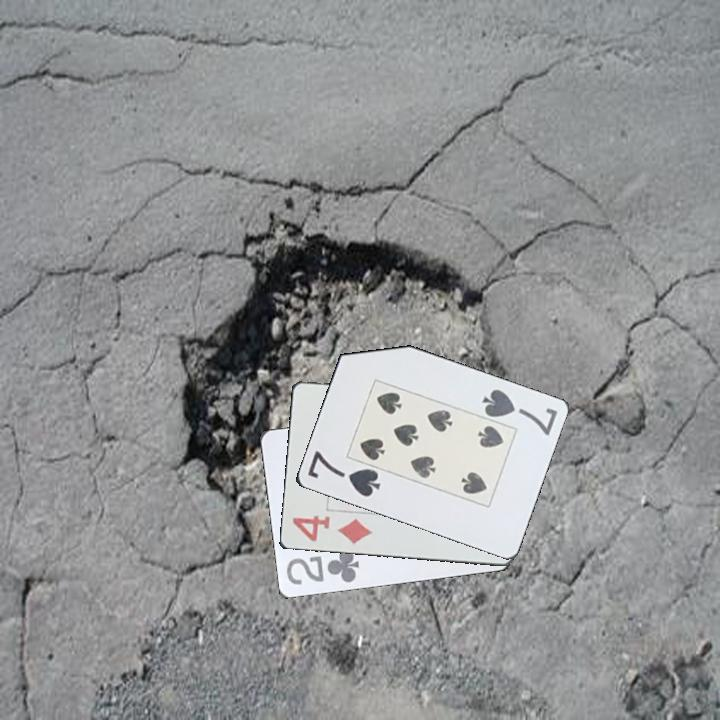2c: (282, 547, 362, 588)
4d: (288, 512, 375, 548)
7s: (478, 385, 560, 439), (303, 447, 383, 500)
